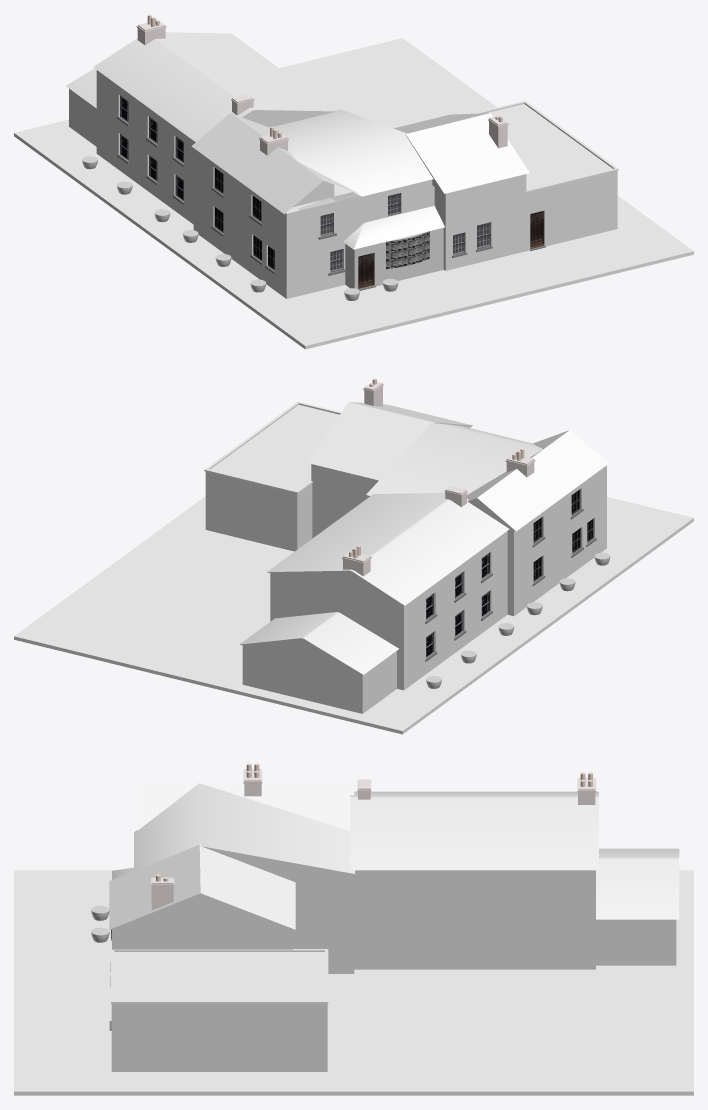
Rendered from JoinersArms_ModelA_012.glb.
3 views of the same model, one above another, from view 1: azimuth 30°, elevation 25°; view 2: azimuth 150°, elevation 25°; view 3: azimuth 270°, elevation 25° (orthographic). The views are drawn at different scales.
Parts seen in each view (by area): view 1: Ground, Boole-Roof Tiles 13 (×2), Building3-Roof Tiles 13, Boole-Brickwall 07 - Shader, Building3-Brickwall 07 - Shader, SideBuilding-Roof Tiles 13, SideBuilding-Brickwall 07 - Shader, SingleStoreyBuilding-Asphalt - Procedural - New, SingleStoreyBuilding-Brickwall 07 - Shader, Entrance, Entrance-Roof Tiles 13, BayWindow-Window_Bay (+7 smaller); view 2: Ground, Building3-Brickwall 07 - Shader, Building3-Roof Tiles 13, Boole-Roof Tiles 13 (×2), Boole-Brickwall 07 - Shader, Building4-Brickwall 07 - Shader, SingleStoreyBuilding-Asphalt - Procedural - New, SingleStoreyBuilding-Brickwall 07 - Shader, SideBuilding-Roof Tiles 13, Building4-Roof Tiles 13, SideBuilding-Brickwall 07 - Shader, Building3-WindowSash4 (+1 smaller); view 3: Ground, Building3-Brickwall 07 - Shader, Building3-Roof Tiles 13, Boole-Roof Tiles 13 (×2), SingleStoreyBuilding-Brickwall 07 - Shader, SingleStoreyBuilding-Asphalt - Procedural - New, SideBuilding-Roof Tiles 13, SideBuilding-Brickwall 07 - Shader, Boole-Brickwall 07 - Shader, Building4-Roof Tiles 13, Building4-Brickwall 07 - Shader, Chimney.1.
Part boxes in pixels (x1=…): Ground: x1=14, y1=38, x2=693, y2=349; Boole-Roof Tiles 13 (×2): x1=191, y1=109, x2=433, y2=214; Building3-Roof Tiles 13: x1=93, y1=32, x2=337, y2=141; Boole-Brickwall 07 - Shader: x1=193, y1=148, x2=434, y2=298; Building3-Brickwall 07 - Shader: x1=96, y1=70, x2=336, y2=224; SideBuilding-Roof Tiles 13: x1=393, y1=113, x2=529, y2=193; SideBuilding-Brickwall 07 - Shader: x1=405, y1=134, x2=526, y2=270; SingleStoreyBuilding-Asphalt - Procedural - New: x1=473, y1=100, x2=618, y2=192; SingleStoreyBuilding-Brickwall 07 - Shader: x1=525, y1=171, x2=617, y2=251; Entrance: x1=330, y1=192, x2=443, y2=289; Entrance-Roof Tiles 13: x1=298, y1=197, x2=444, y2=249; BayWindow-Window_Bay: x1=386, y1=231, x2=429, y2=269; Ground: x1=14, y1=496, x2=693, y2=734; Building3-Brickwall 07 - Shader: x1=267, y1=531, x2=507, y2=690; Building3-Roof Tiles 13: x1=267, y1=493, x2=509, y2=605; Boole-Roof Tiles 13 (×2): x1=366, y1=423, x2=608, y2=531; Boole-Brickwall 07 - Shader: x1=366, y1=465, x2=606, y2=616; Building4-Brickwall 07 - Shader: x1=240, y1=638, x2=396, y2=713; SingleStoreyBuilding-Asphalt - Procedural - New: x1=204, y1=401, x2=341, y2=493; SingleStoreyBuilding-Brickwall 07 - Shader: x1=205, y1=471, x2=312, y2=551; SideBuilding-Roof Tiles 13: x1=308, y1=402, x2=471, y2=480; Building4-Roof Tiles 13: x1=239, y1=612, x2=398, y2=674; SideBuilding-Brickwall 07 - Shader: x1=311, y1=422, x2=472, y2=538; Building3-WindowSash4: x1=426, y1=552, x2=489, y2=657; Ground: x1=14, y1=870, x2=693, y2=1095; Building3-Brickwall 07 - Shader: x1=354, y1=870, x2=595, y2=969; Building3-Roof Tiles 13: x1=350, y1=791, x2=598, y2=870; Boole-Roof Tiles 13 (×2): x1=134, y1=783, x2=355, y2=873; SingleStoreyBuilding-Brickwall 07 - Shader: x1=111, y1=1004, x2=327, y2=1071; SingleStoreyBuilding-Asphalt - Procedural - New: x1=111, y1=949, x2=328, y2=1003; SideBuilding-Roof Tiles 13: x1=109, y1=844, x2=295, y2=929; SideBuilding-Brickwall 07 - Shader: x1=109, y1=893, x2=294, y2=949; Boole-Brickwall 07 - Shader: x1=202, y1=846, x2=354, y2=973; Building4-Roof Tiles 13: x1=596, y1=848, x2=679, y2=919; Building4-Brickwall 07 - Shader: x1=596, y1=919, x2=676, y2=965; Chimney.1: x1=151, y1=877, x2=174, y2=910.
Size of the model in its own units: 847 by 273 by 1100.
12 materials, 5 textured.
